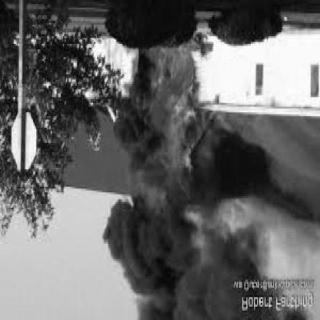Fire: (121, 39, 213, 222)
